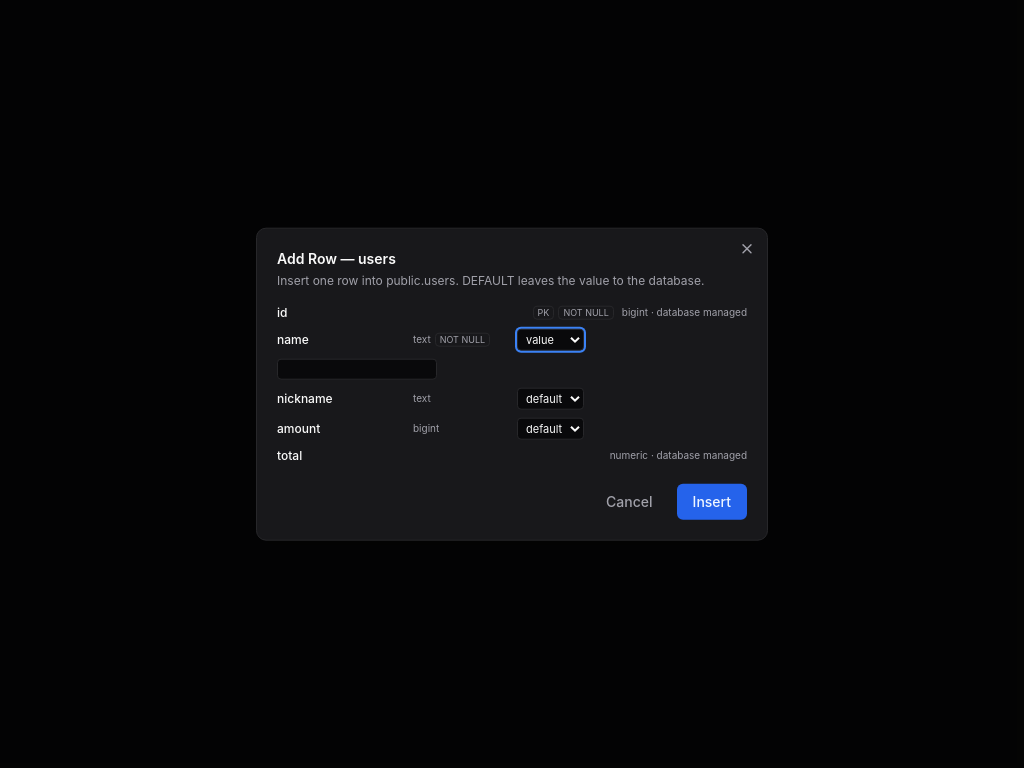
AddRowDialog › blocks DEFAULT on a NOT NULL column without a database default
Select "default" in the dropdown named "name mode" at (550, 340), box [517, 329, 584, 351]
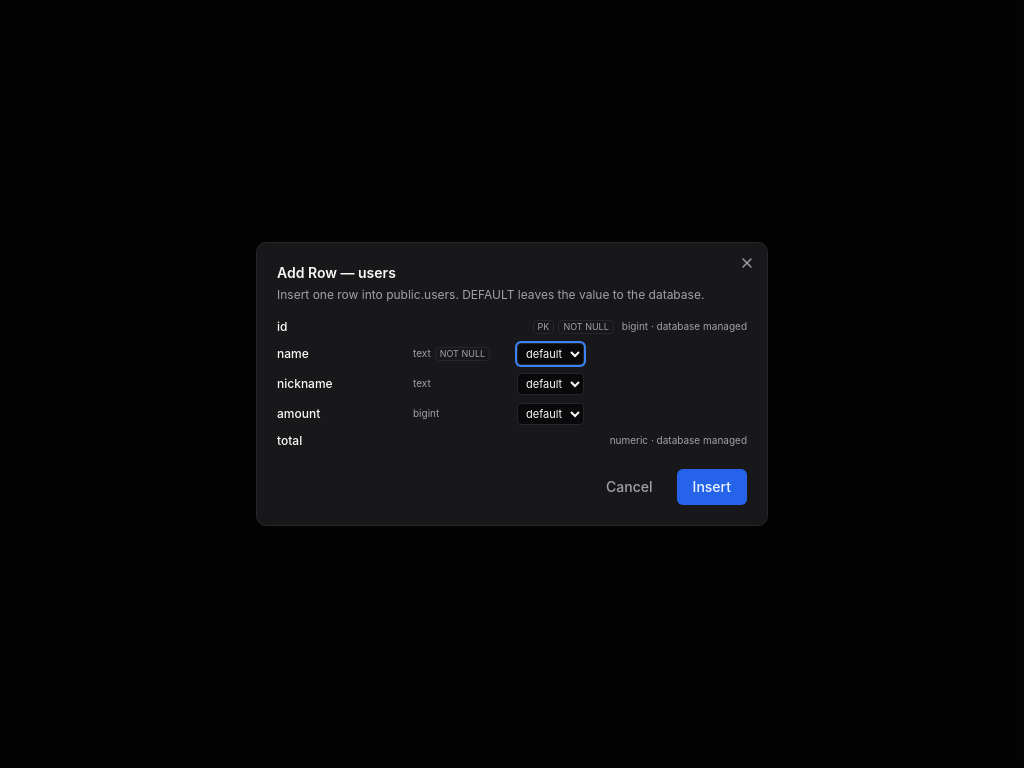
Click the button "Insert" at (712, 487), box [677, 469, 747, 505]
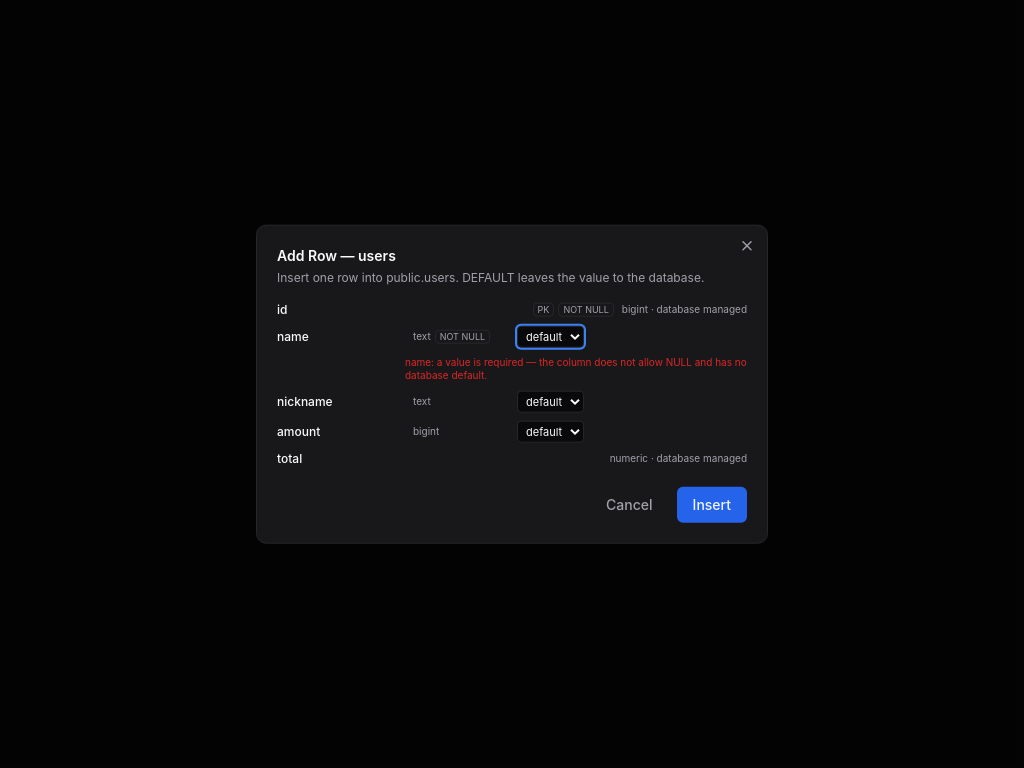
Expected: the message with test id "row-field-error" shows "name: a value is required", [405, 356, 747, 381]
